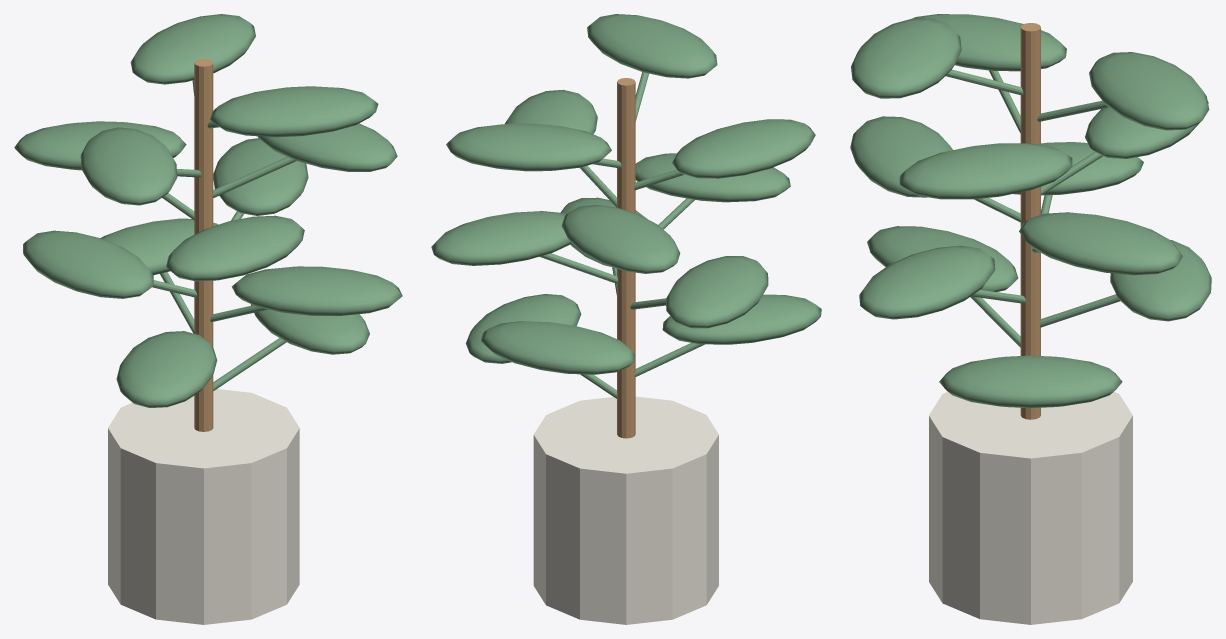
Rendered from plant.glb.
3 renders of one model, left to right at view 1: azimuth 30°, elevation 25°; view 2: azimuth 150°, elevation 25°; view 3: azimuth 270°, elevation 25°, orthographic. The views are drawn at different scales.
Visible parts, largest first — view 1: plant; view 2: plant; view 3: plant.
Boxes of the visible parts, x1,y1,x2,y2 form: plant: (14,14,402,624); plant: (431,14,821,624); plant: (850,14,1211,624).
Bounding box in the file's own units: 0.8888 × 1.5 × 0.8862.
